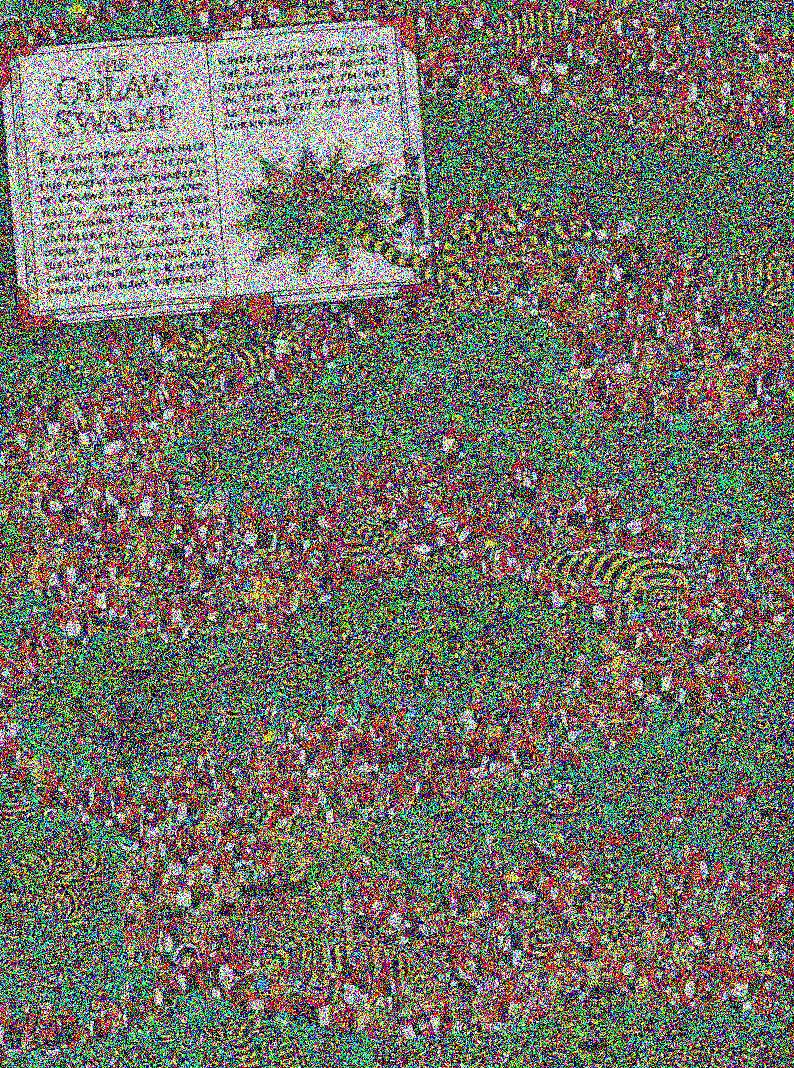waldos: (387, 455, 407, 483)
